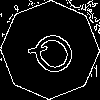Q: (25, 25, 87, 88)
